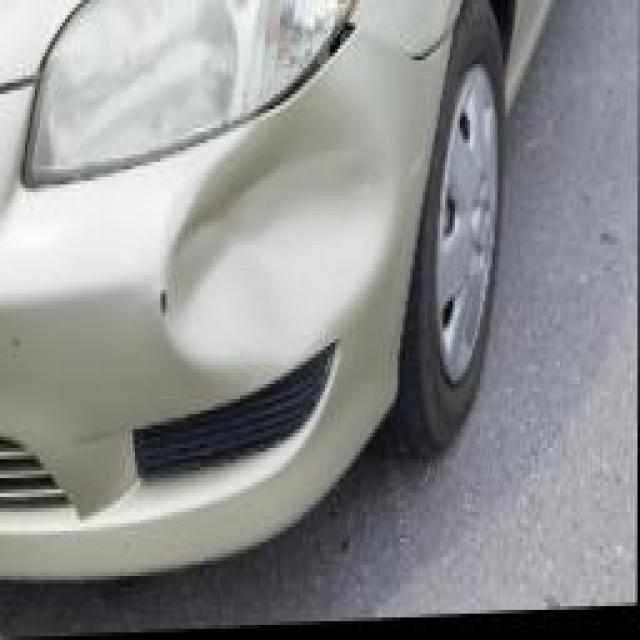Bumper: (152, 90, 399, 414)
